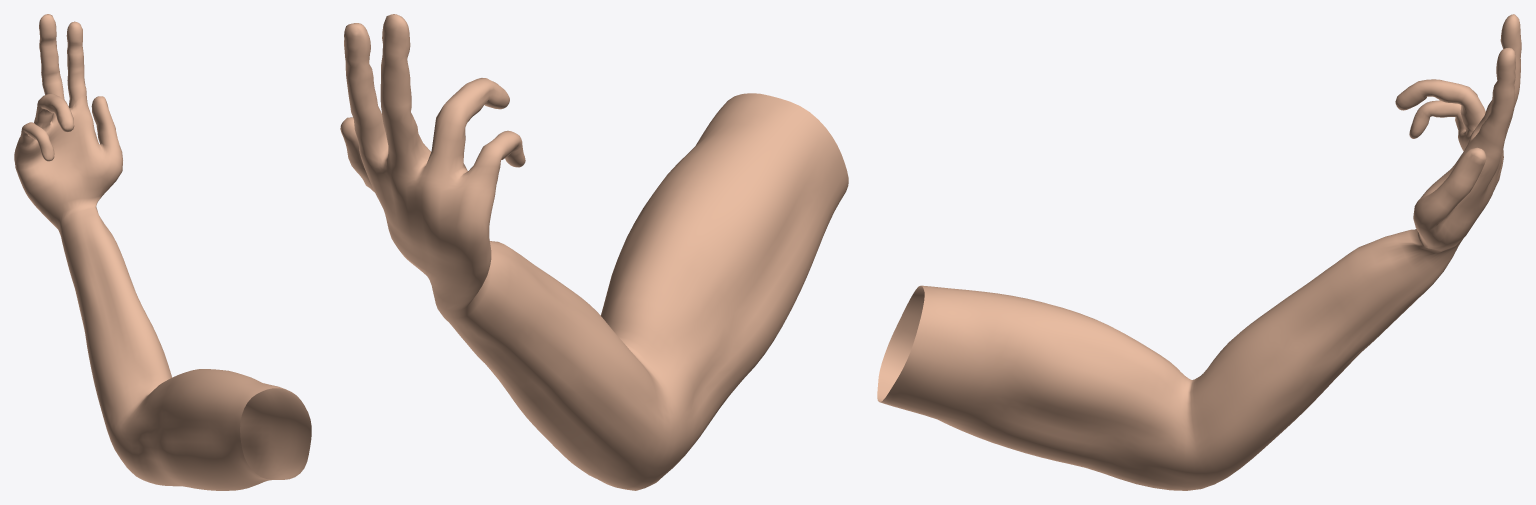
The model's file is toss.obj.
3 views of the same model, side by side, from view 1: azimuth 30°, elevation 25°; view 2: azimuth 150°, elevation 25°; view 3: azimuth 270°, elevation 25° (orthographic). The views are drawn at different scales.
Parts seen in each view (by area): view 1: toss; view 2: toss; view 3: toss.
Boxes of the visible parts, left/top/right/bottom form: toss: left=14, top=14, right=311, bottom=490; toss: left=340, top=14, right=848, bottom=490; toss: left=877, top=14, right=1521, bottom=490.
Bounding box in the file's own units: 15.57 × 55.63 × 66.81.
1 material, 1 textured.
